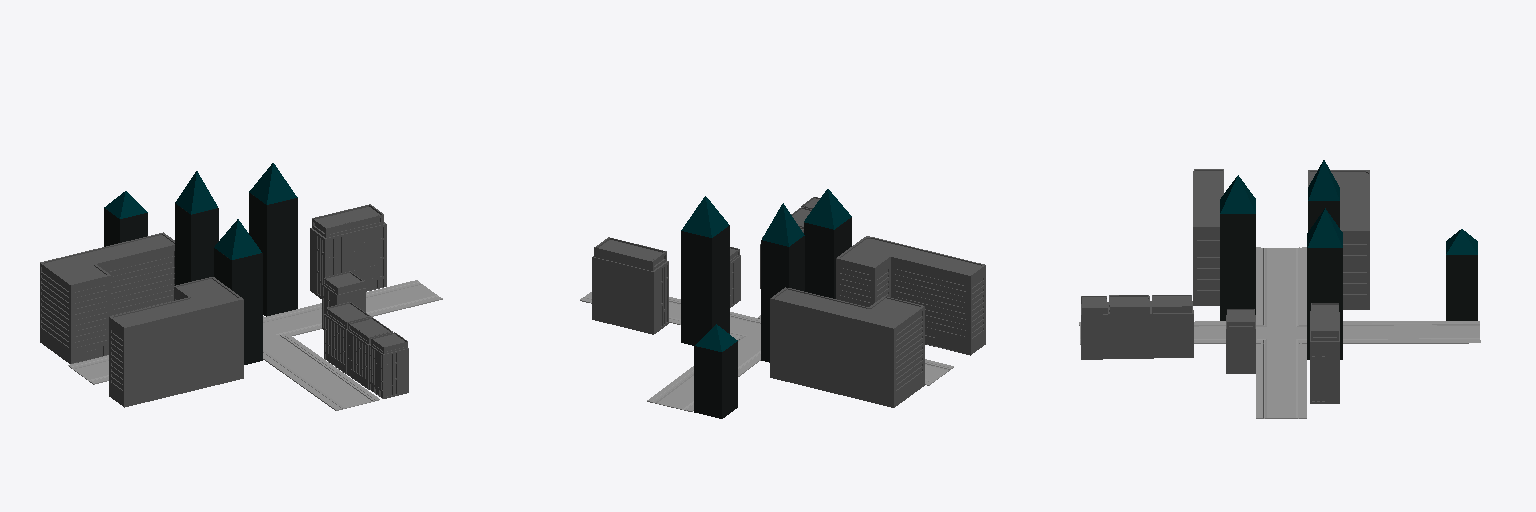
File: city.obj
The picture shows the model from 3 angles: view 1: azimuth 30°, elevation 25°; view 2: azimuth 150°, elevation 25°; view 3: azimuth 270°, elevation 25°; orthographic projection.
Bounding box in the file's own units: 15.89 × 6.77 × 15.79.